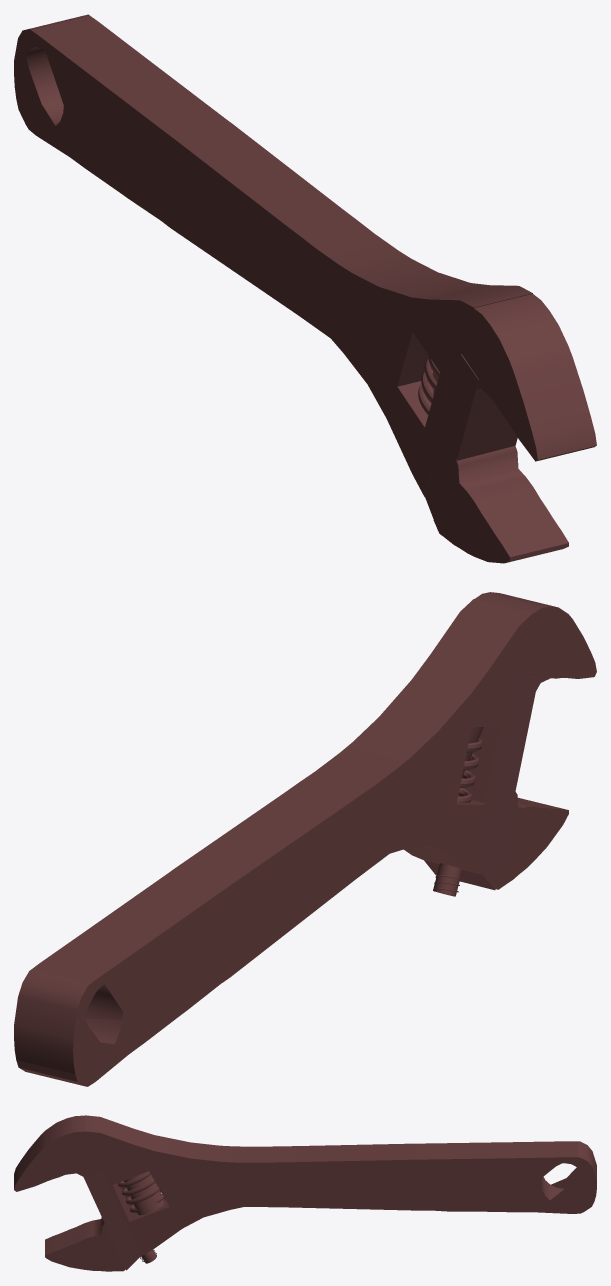
Rendered from wrench.glb.
The picture shows the model from 3 angles, top to bottom: view 1: azimuth 30°, elevation 25°; view 2: azimuth 150°, elevation 25°; view 3: azimuth 270°, elevation 25°; orthographic projection. The views are drawn at different scales.
Visible parts, largest first — view 1: pCube8.1; view 2: pCube8.1; view 3: pCube8.1.
Part boxes in pixels (x1,y1,x2,y2): pCube8.1: (14, 14, 596, 563); pCube8.1: (14, 592, 596, 1086); pCube8.1: (14, 1115, 596, 1271).
Bounding box in the file's own units: 0.638 × 2.52 × 9.5.
